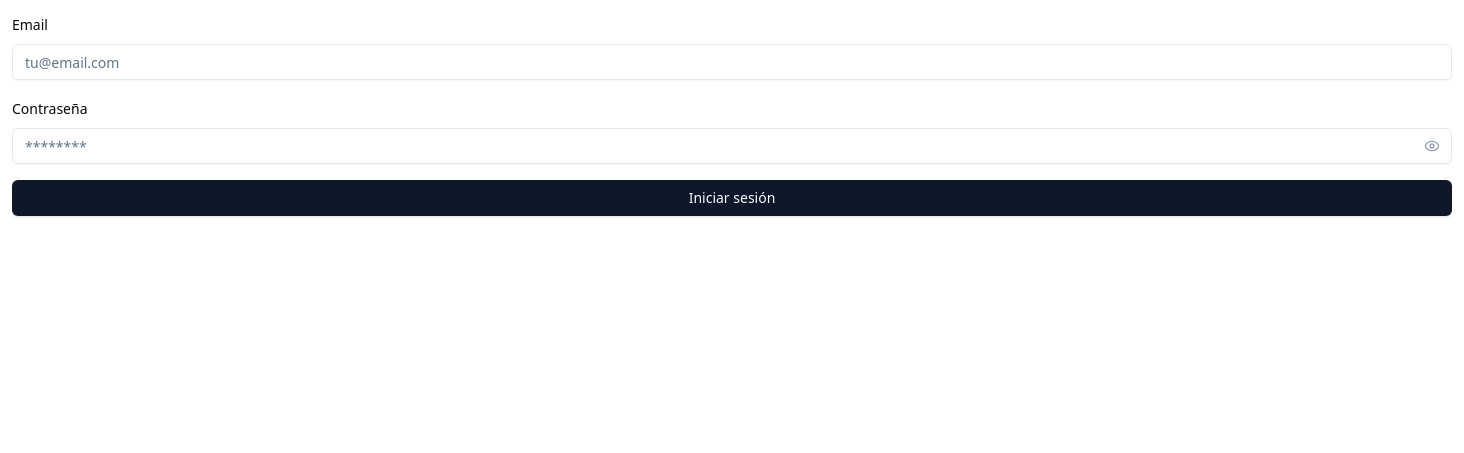
Test: LoginForm MFA flow › allows cancel in change-password step and returns to login
Type "user@example.com" into the field labelled "Email" at (732,62), box [12,44,1452,80]
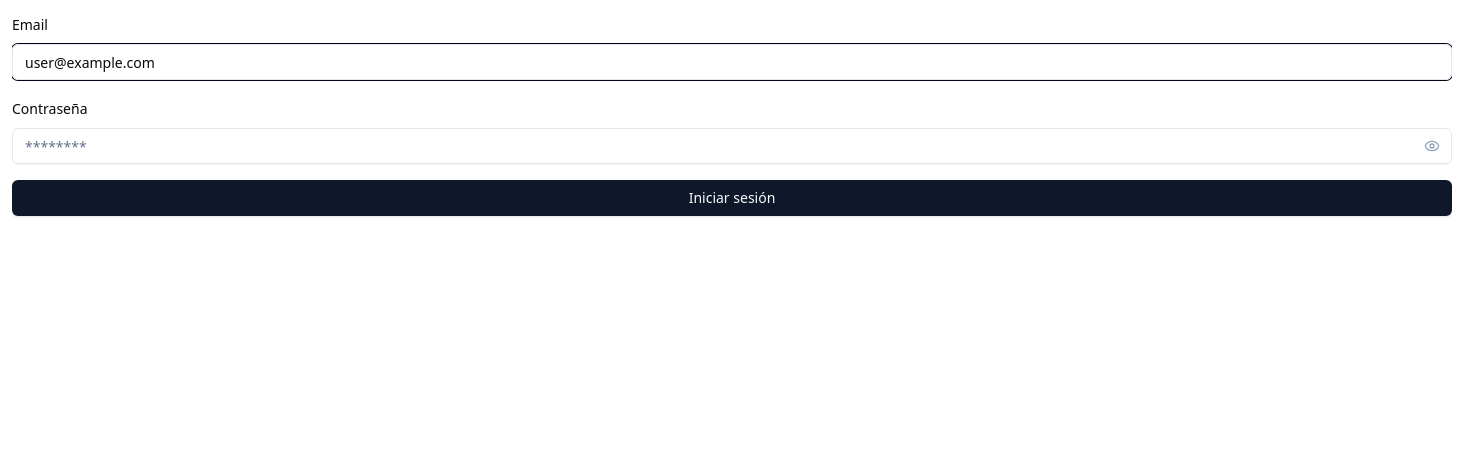
Type "Password123!" into the password field labelled "Contraseña" at (732,146), box [12,128,1452,164]
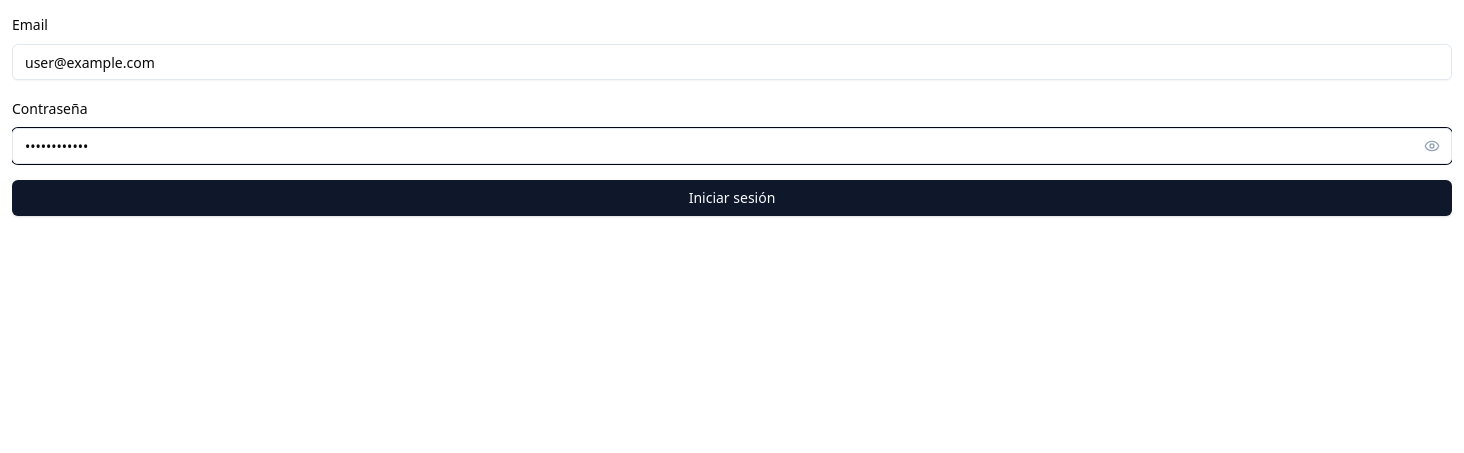
Click the button "Iniciar sesión" at (732,198), box [12,180,1452,216]
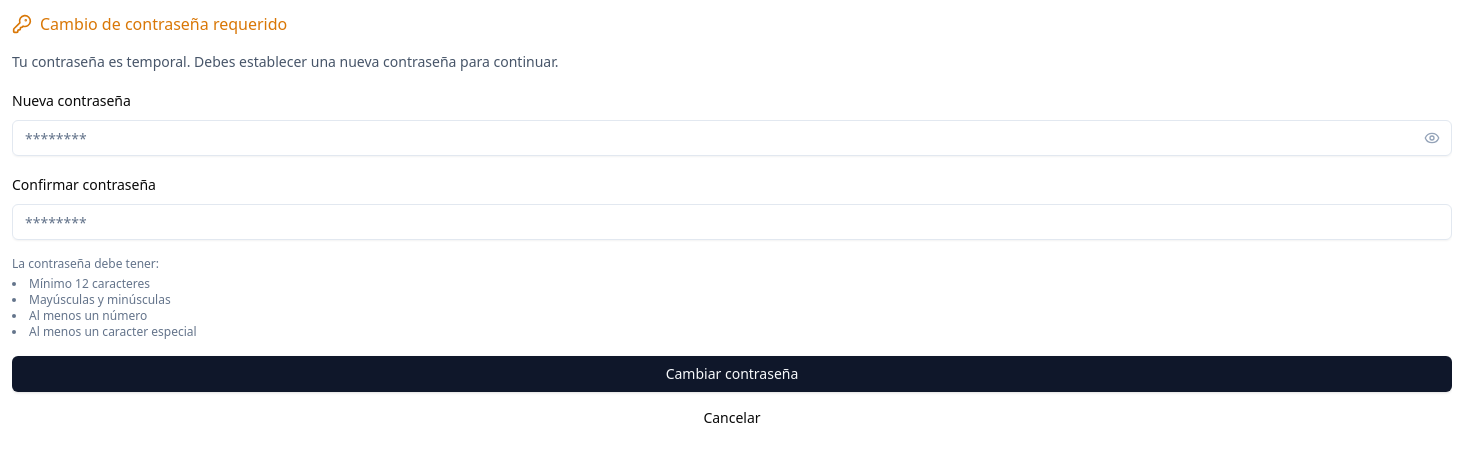
Check: the text "Cambio de contraseña requerido" is shown, box [40,12,287,36]
Click the button "Cancelar" at (732,418), box [12,400,1452,436]
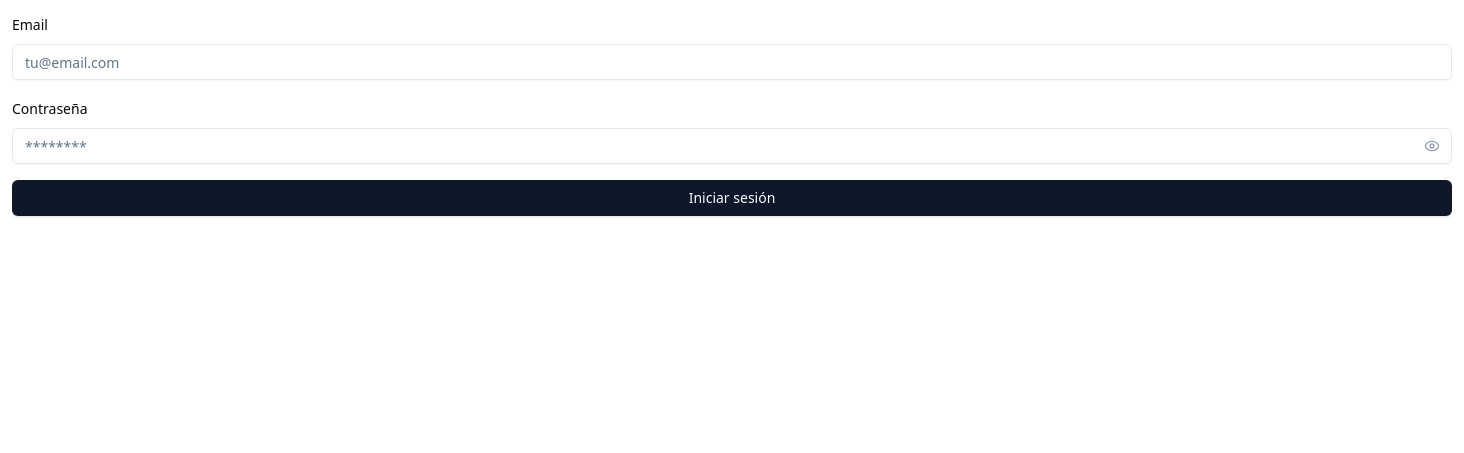
Check: the button "Iniciar sesión" is shown, box [12,180,1452,216]
